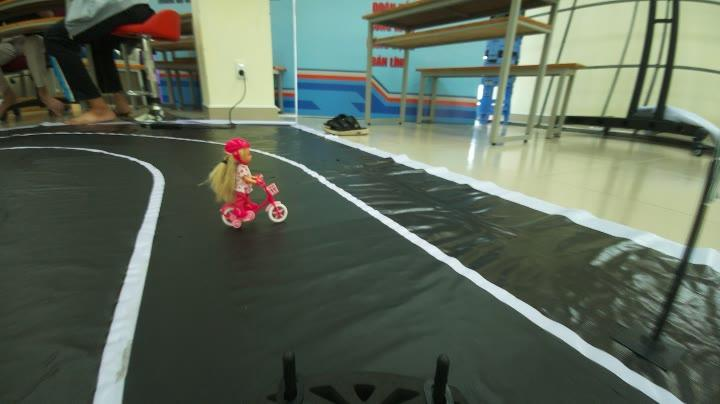pedestrian: (190, 134, 300, 228)
